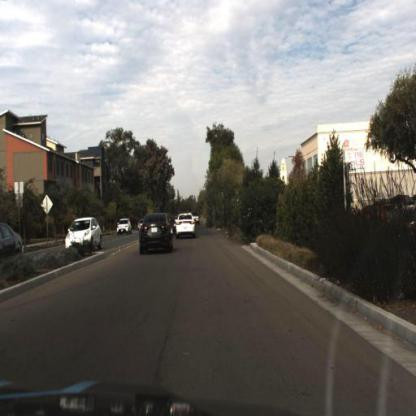car: (135, 205, 178, 264), (59, 210, 110, 259), (61, 216, 104, 251), (172, 206, 203, 249), (1, 222, 25, 276), (114, 216, 137, 241), (115, 216, 133, 236), (165, 218, 178, 242)
